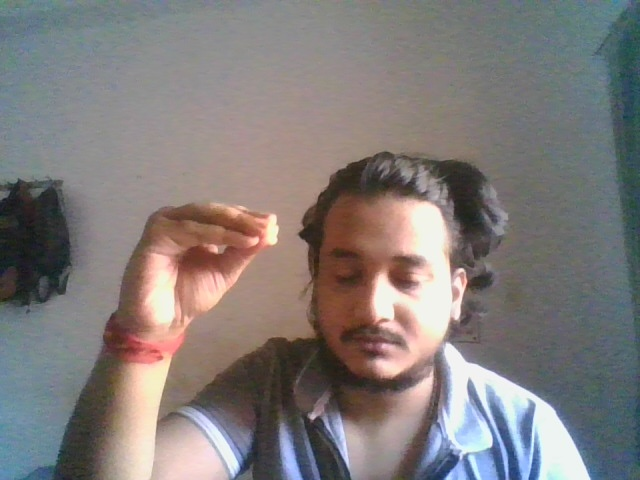Mouth: (118, 201, 280, 330)
